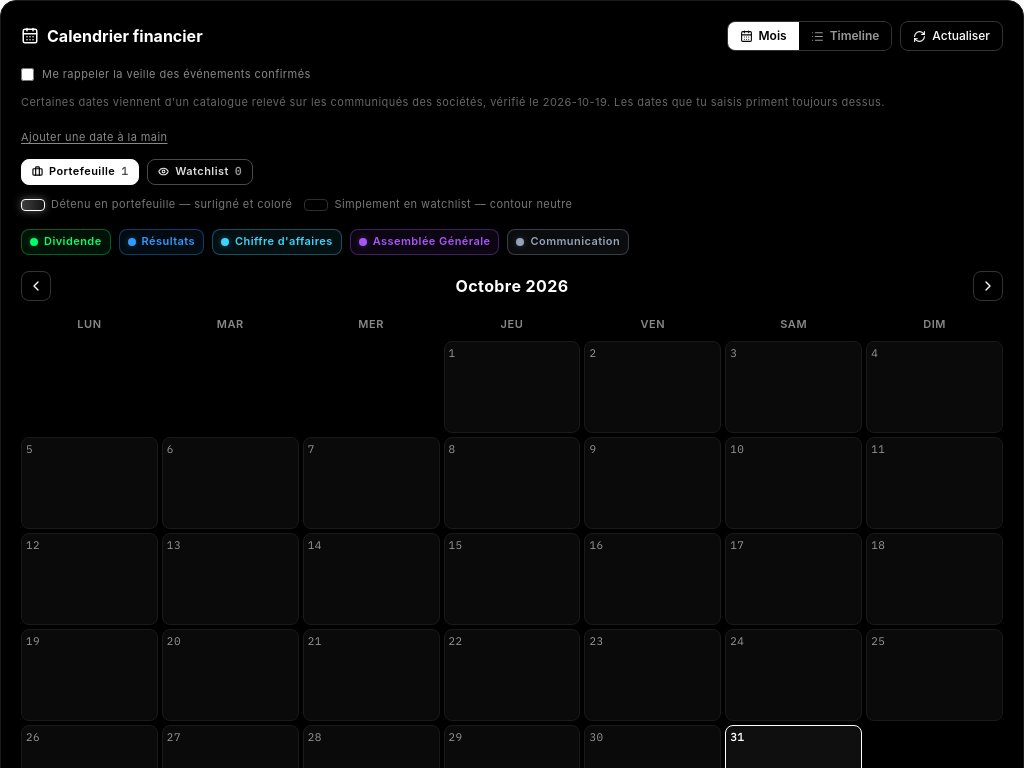
FinancialCalendar › classe une valeur à la fois détenue et surveillée comme portefeuille
Click the button "Timeline" at coordinates (845, 36), box [799,22,891,50]
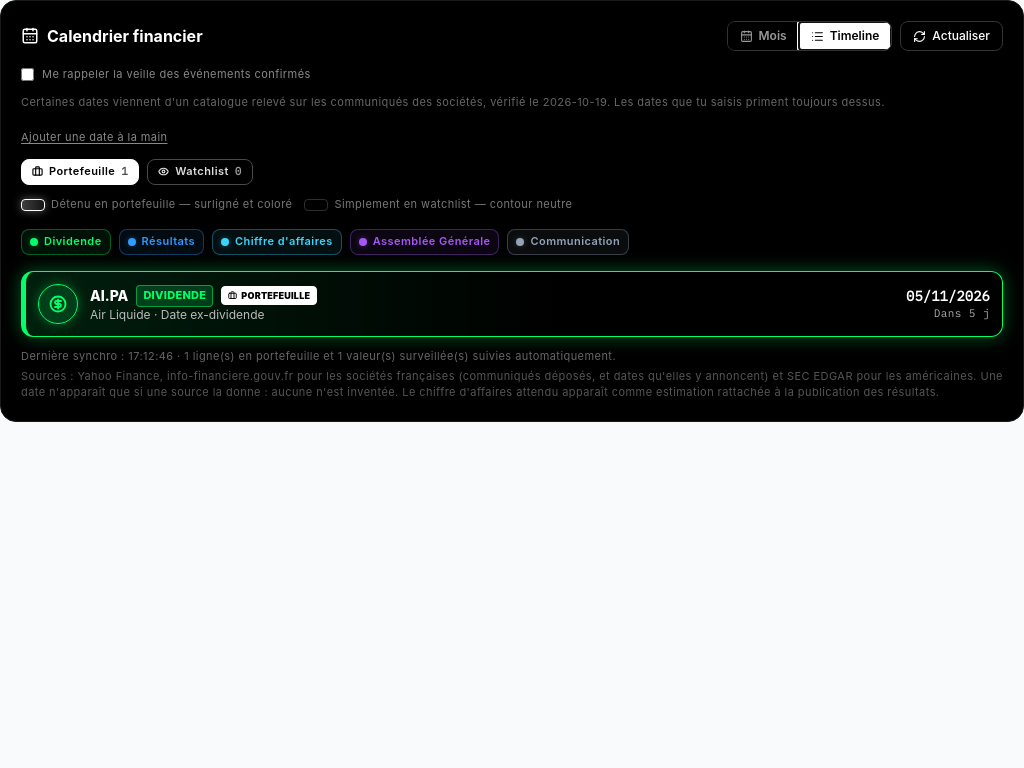
Expected: the text "Portefeuille" is shown, [221,286,317,305]
